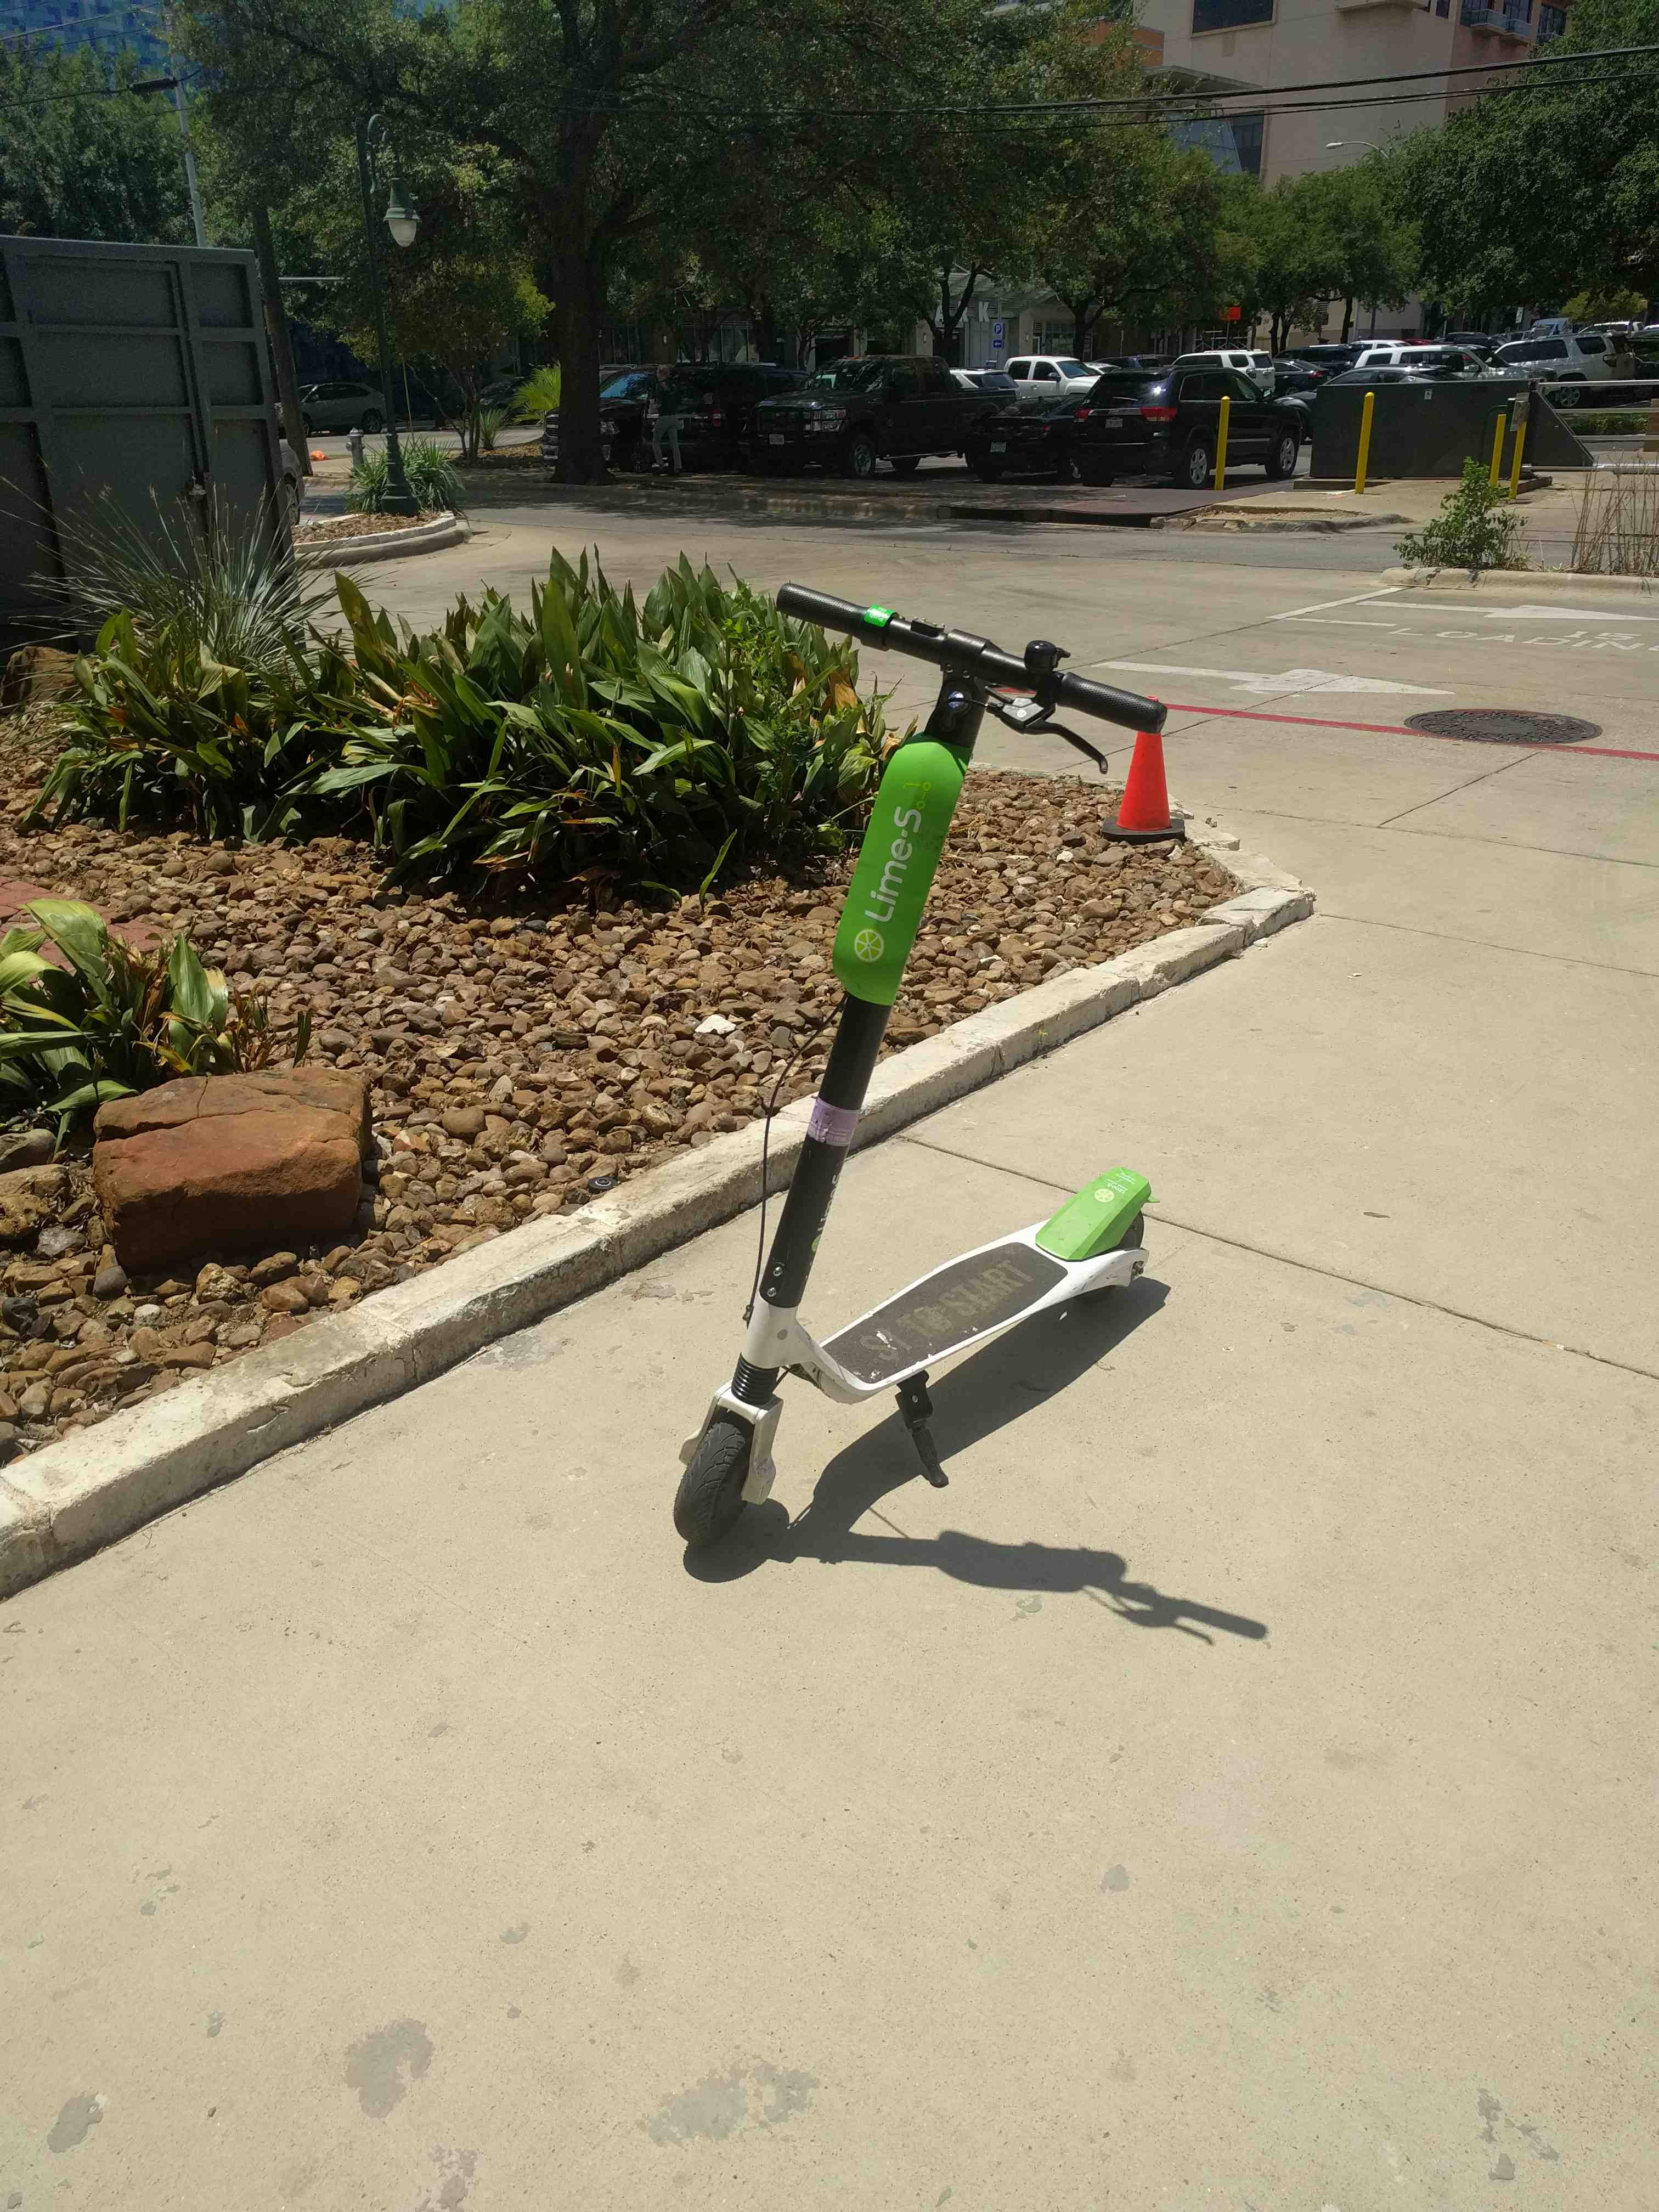scooter: (669, 568, 1269, 1615)
